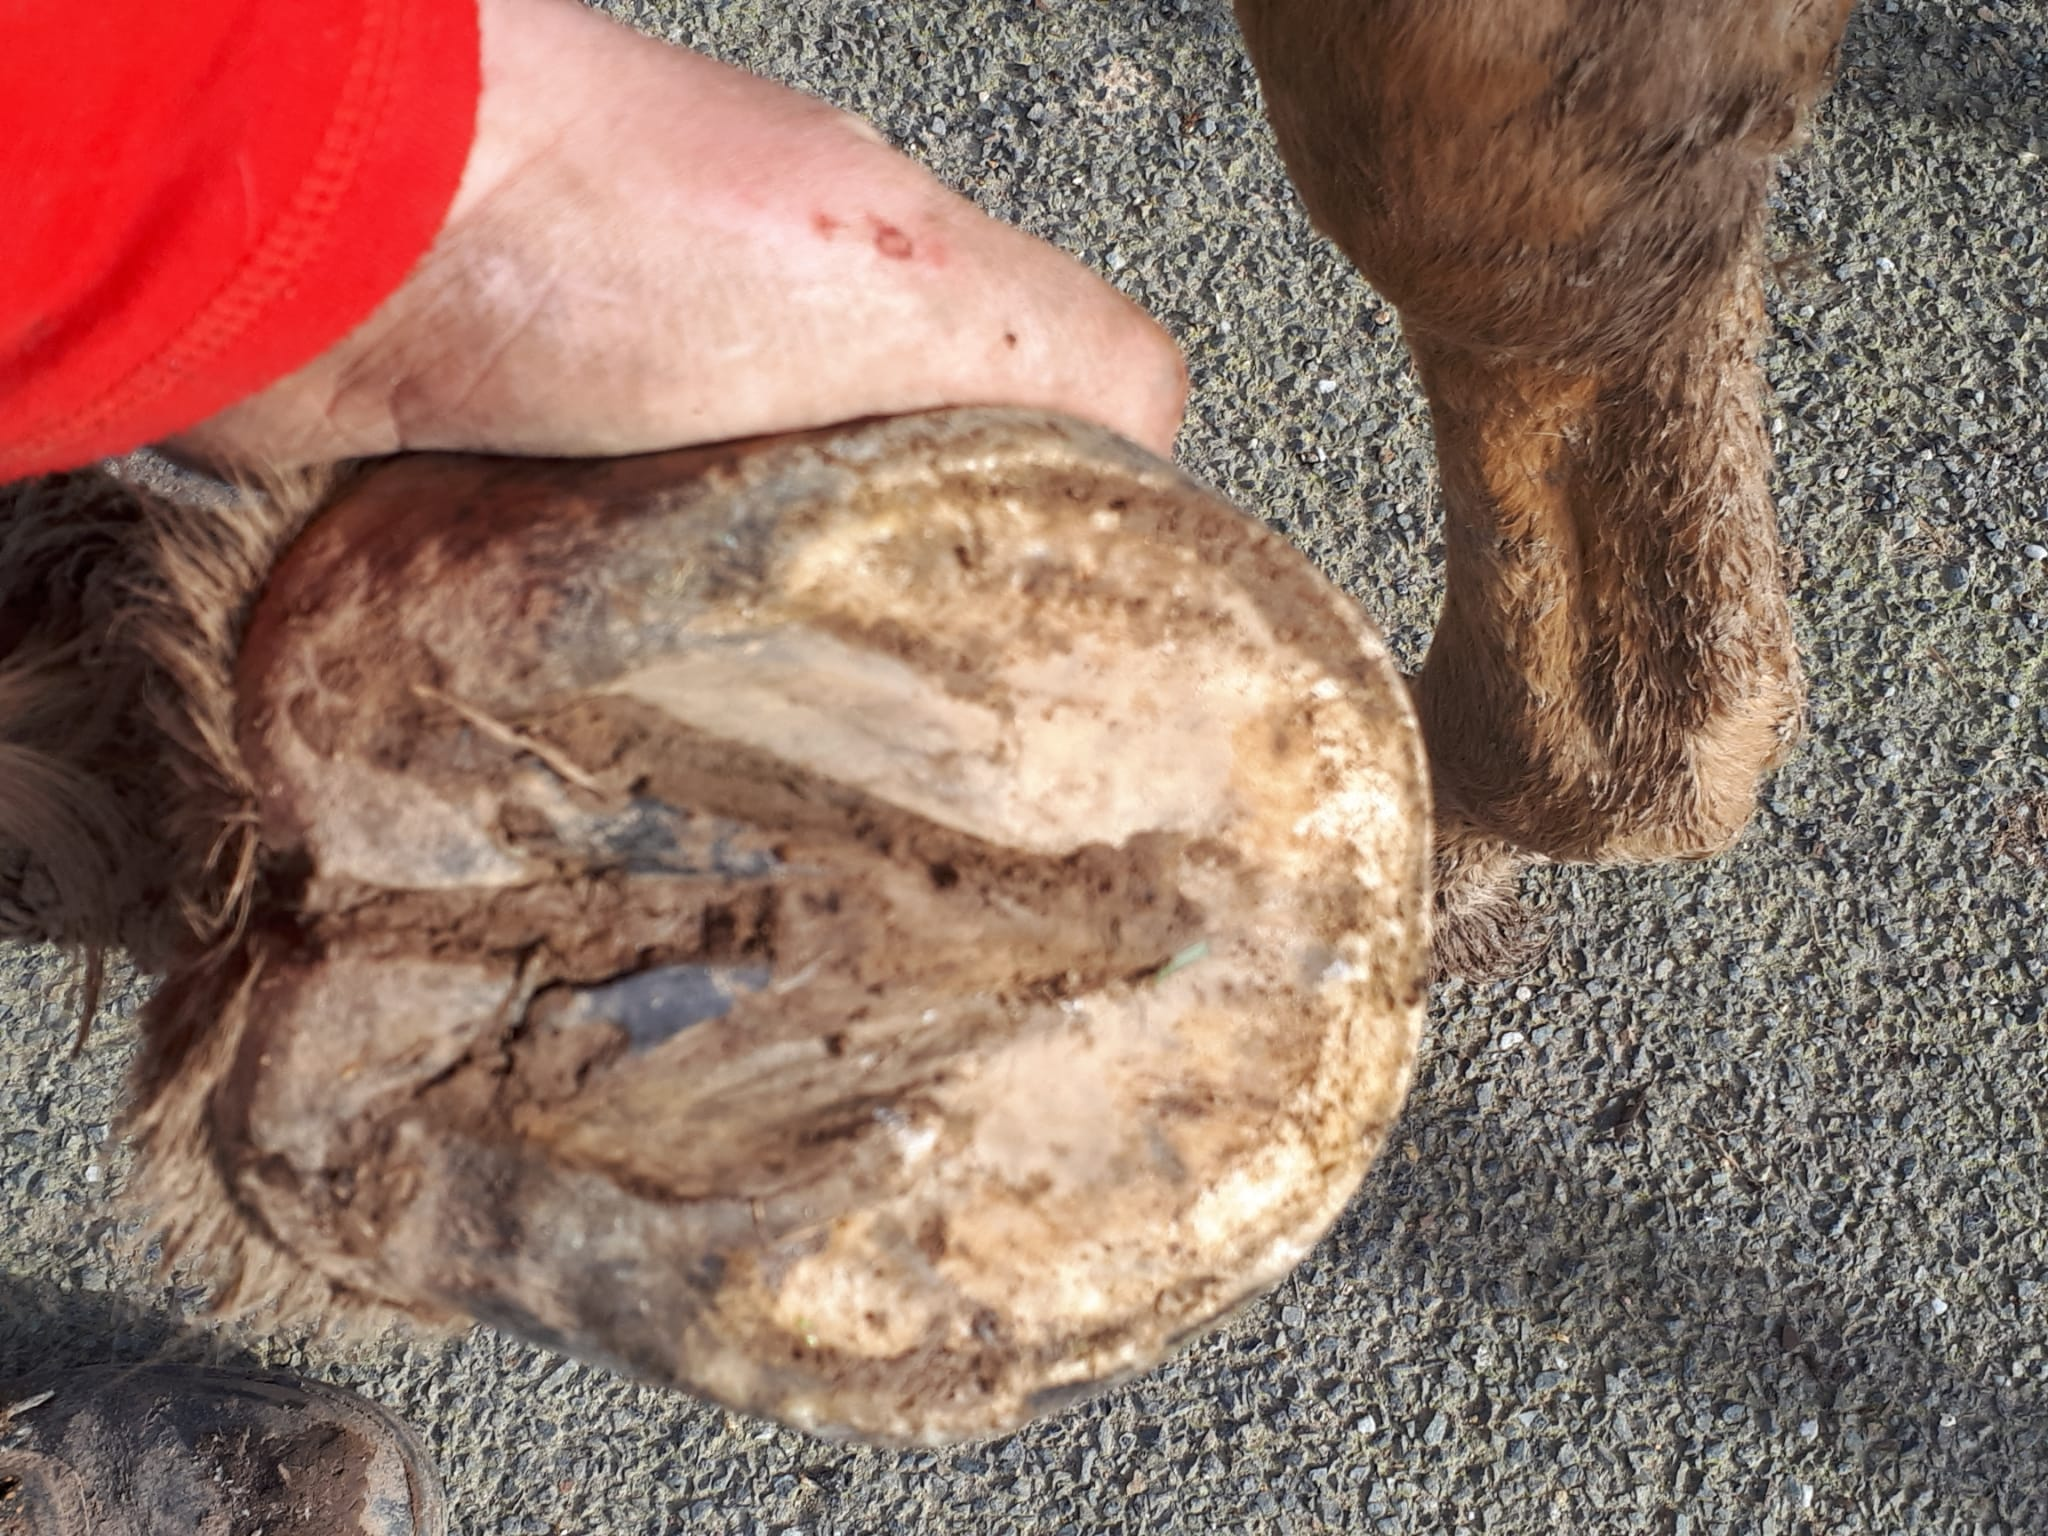horsesole: (419, 407, 1435, 1450)
